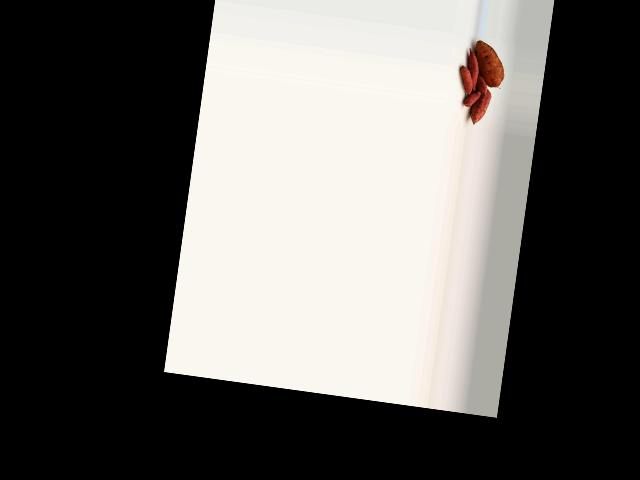sweet_potato: (468, 88, 491, 127)
